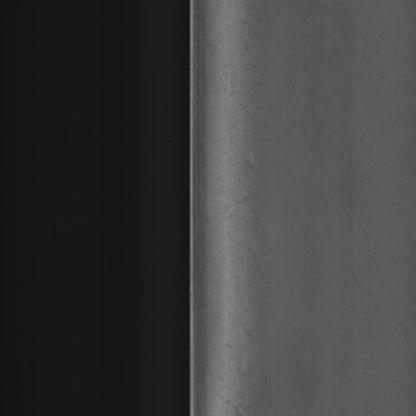silk_spot: (205, 31, 265, 395)
